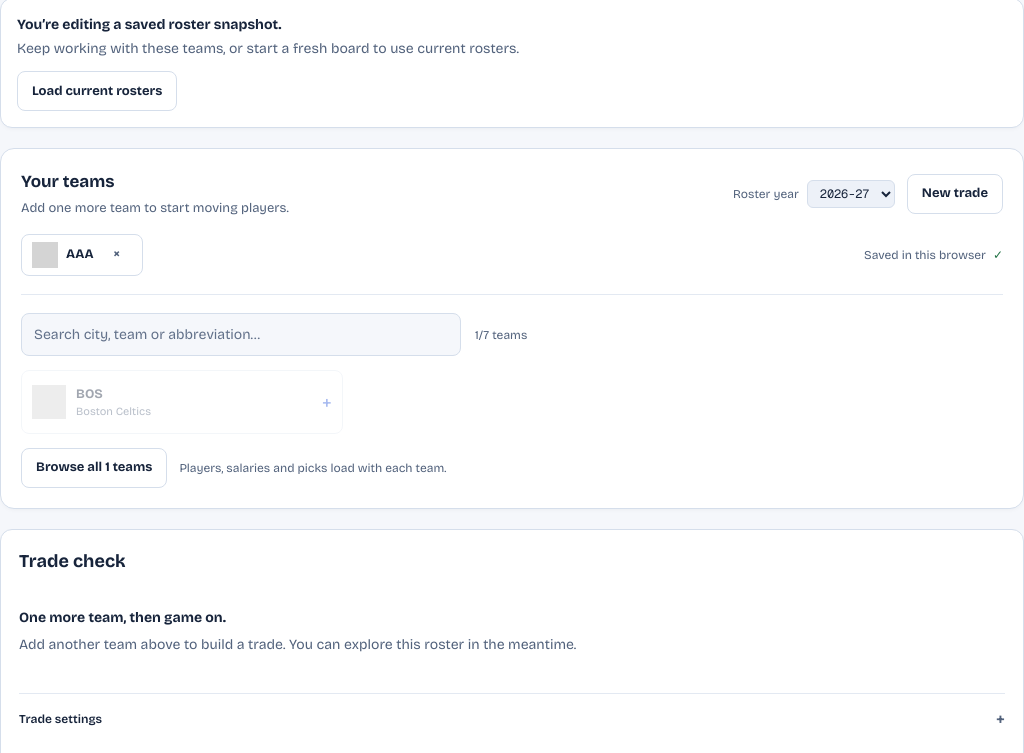
Scenario: working board preservation across contracts navigation › uses current metadata when the last stale team is removed and a fresh roster is added
The width and height of the screenshot is (1024, 753).
Step 1. Click the button named "Remove AAA from trade" → [117, 255], box [102,239,132,271]
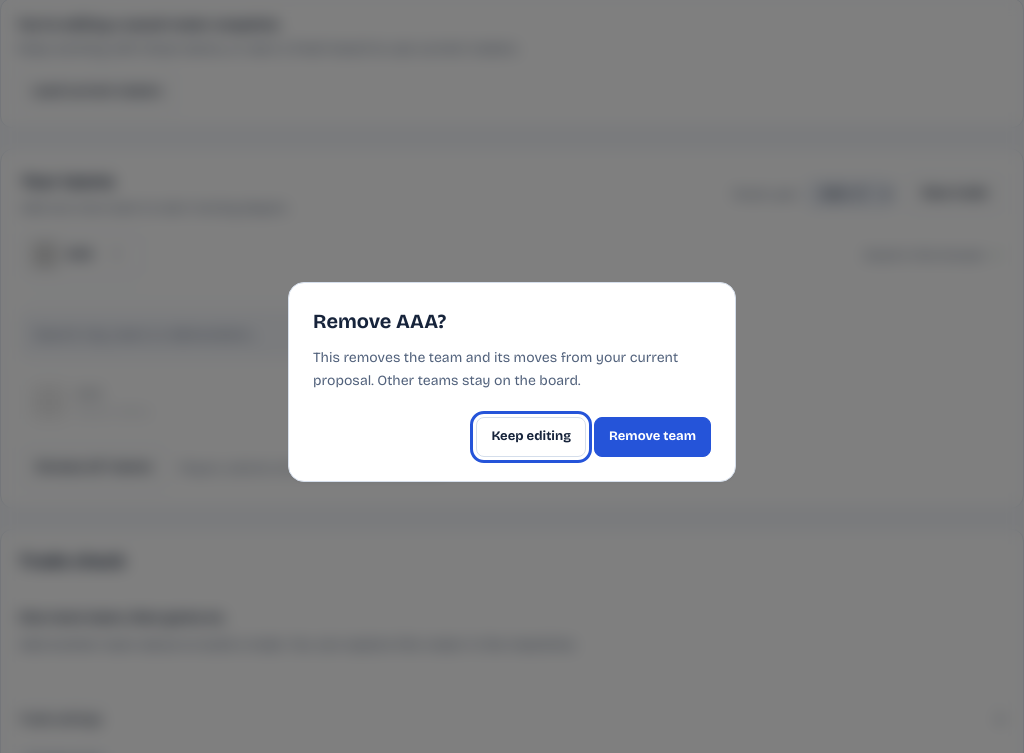
Step 2. Click the button "Remove team" → [652, 437], box [594,417,711,457]
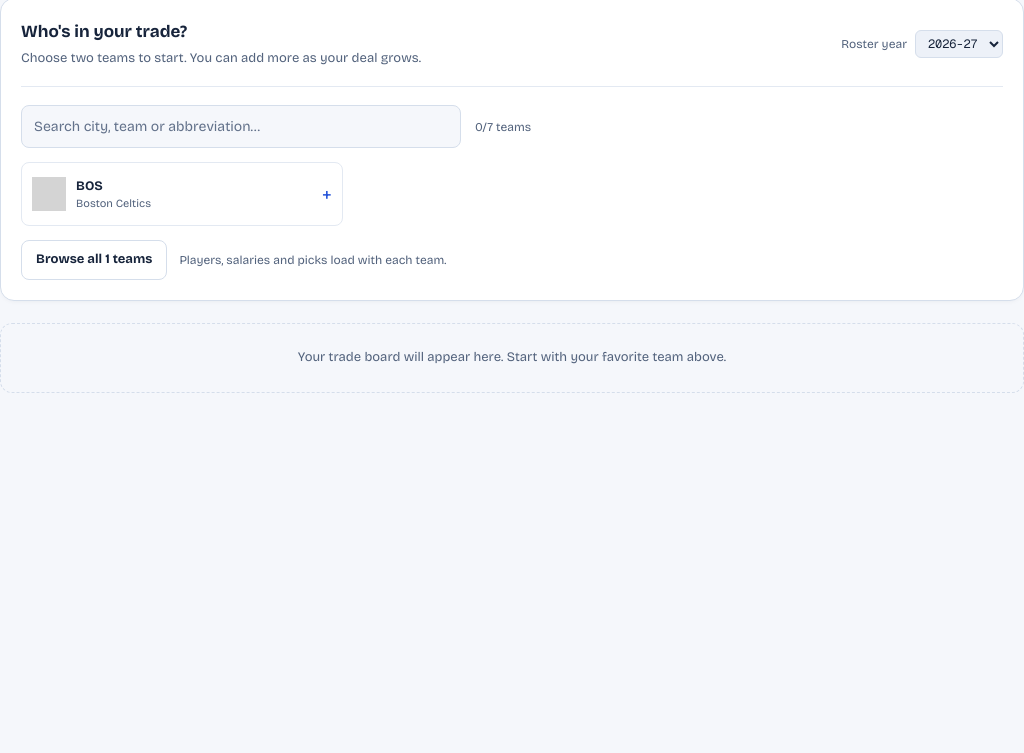
Step 3. Click the button with aria-label "Add Boston Celtics" → [49, 194], box [21,162,343,226]
(page scrolled)
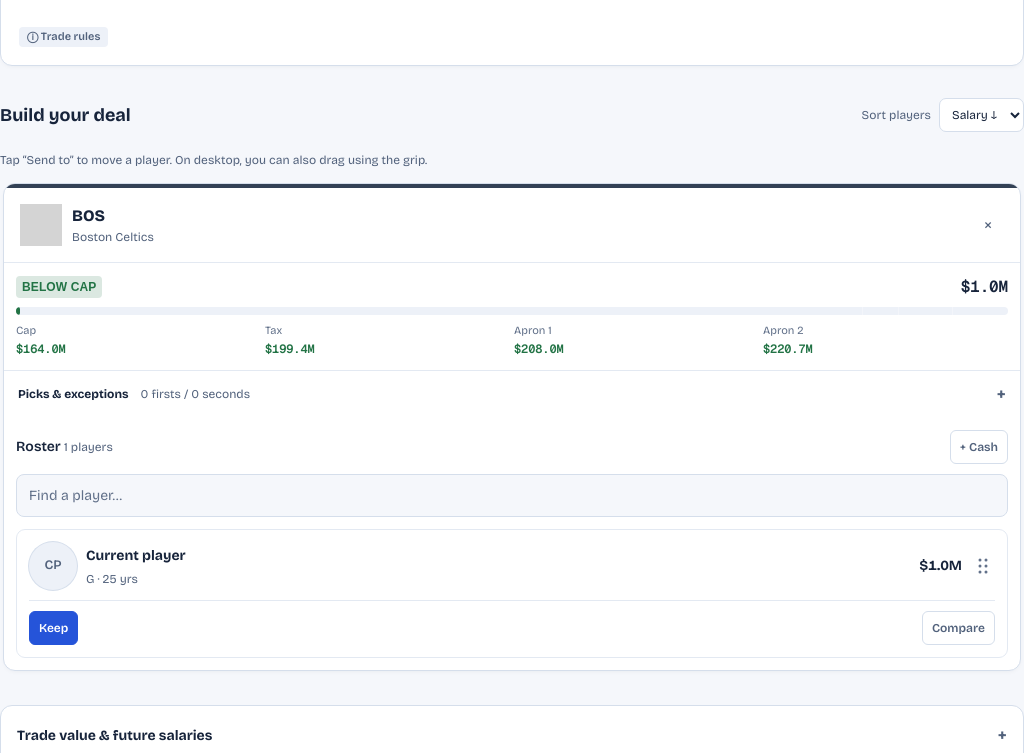
Expected: the text "You’re editing a saved roster snapshot." is not shown
Expected: the button "Current player" is shown, [86,546,186,566]
